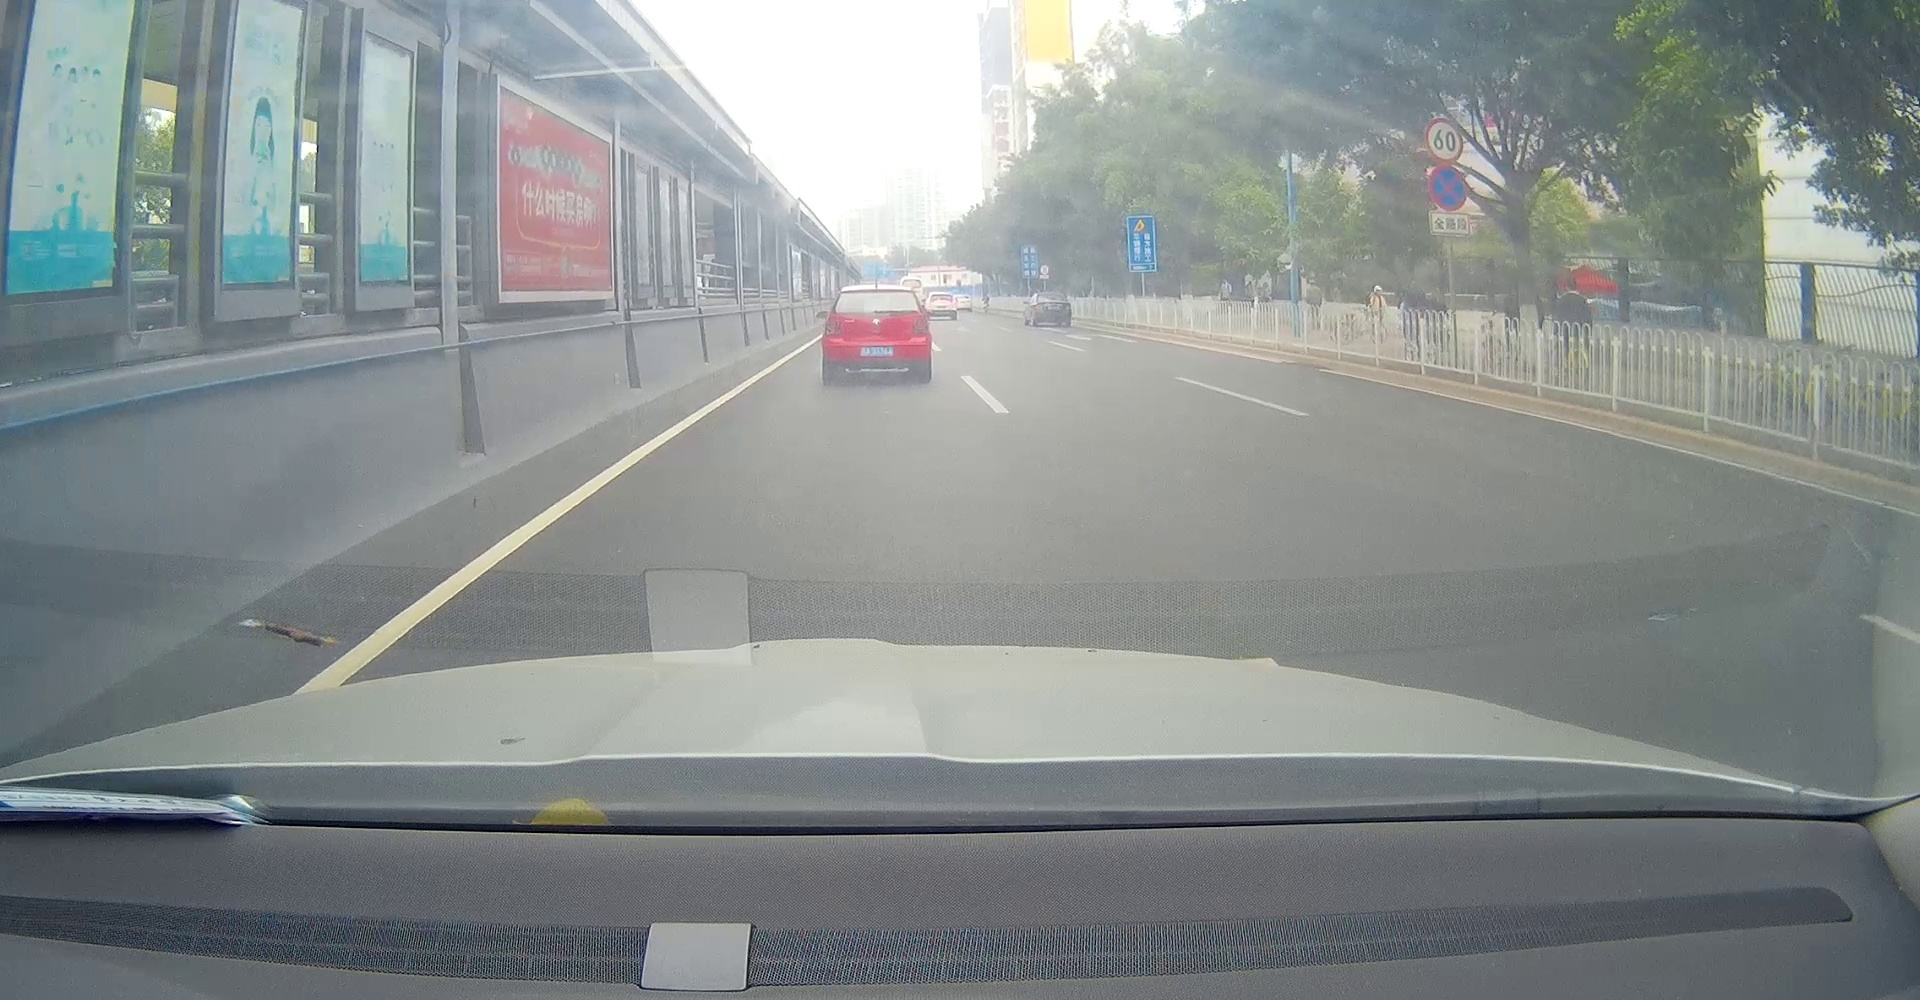L_light: (824, 317, 844, 338)
R_light: (913, 315, 930, 335)
T_light: (870, 291, 885, 294)
day-no: (822, 284, 932, 385)
